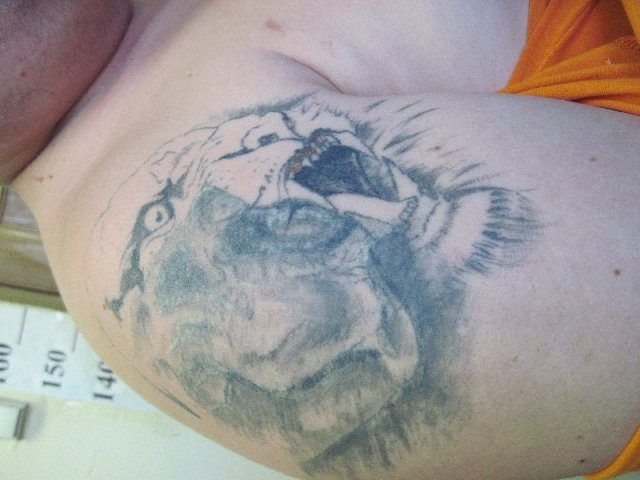tatu5_tigr: (82, 91, 547, 475)
